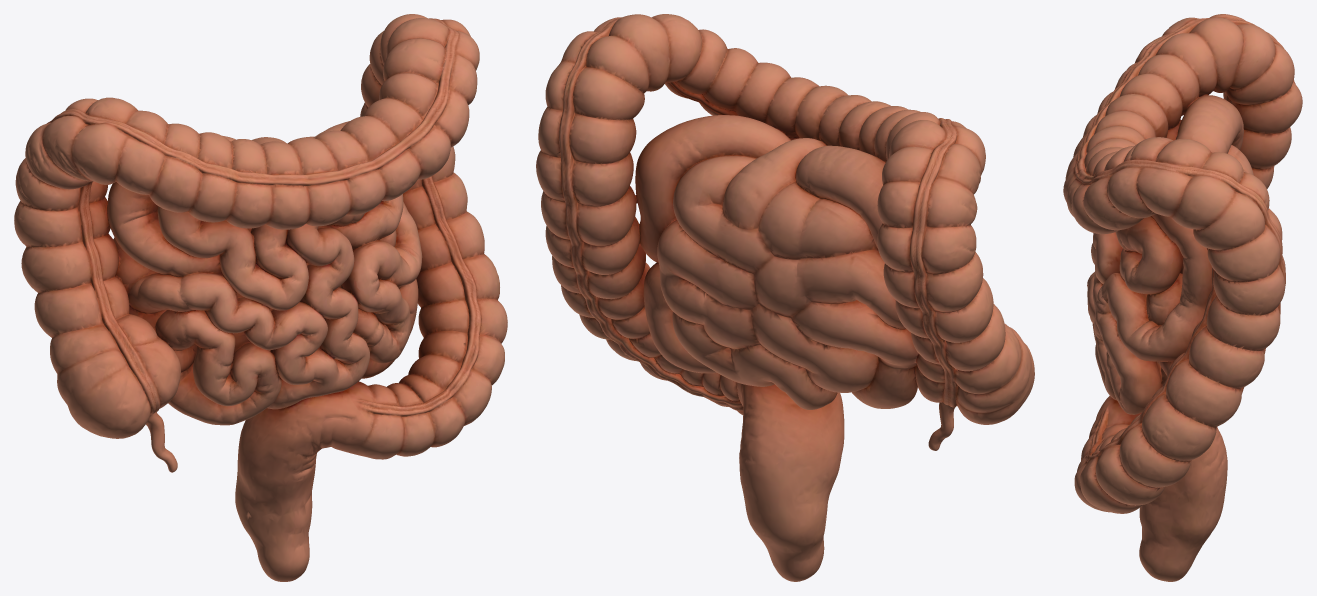
Rendered from intestine.glb.
3 renders of one model, left to right at view 1: azimuth 30°, elevation 25°; view 2: azimuth 150°, elevation 25°; view 3: azimuth 270°, elevation 25°, orthographic. The views are drawn at different scales.
Visible parts, largest first — view 1: tripo_node_62b379d0-ce68-4c4f-9391-eb1f11136f30; view 2: tripo_node_62b379d0-ce68-4c4f-9391-eb1f11136f30; view 3: tripo_node_62b379d0-ce68-4c4f-9391-eb1f11136f30.
Boxes of the visible parts, box(x1,y1,x2,y2) form: tripo_node_62b379d0-ce68-4c4f-9391-eb1f11136f30: box(14, 14, 507, 581); tripo_node_62b379d0-ce68-4c4f-9391-eb1f11136f30: box(536, 14, 1034, 581); tripo_node_62b379d0-ce68-4c4f-9391-eb1f11136f30: box(1063, 14, 1302, 581).
Size of the model in its own units: 0.8861 by 0.9999 by 0.4269.
1 material, 1 textured.
